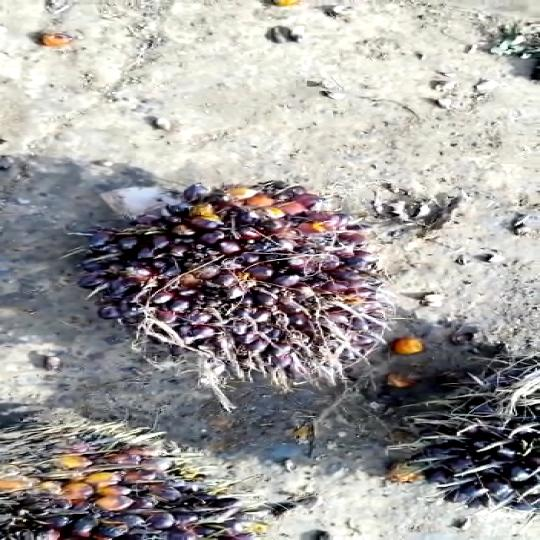kurang masak: (84, 170, 365, 389)
